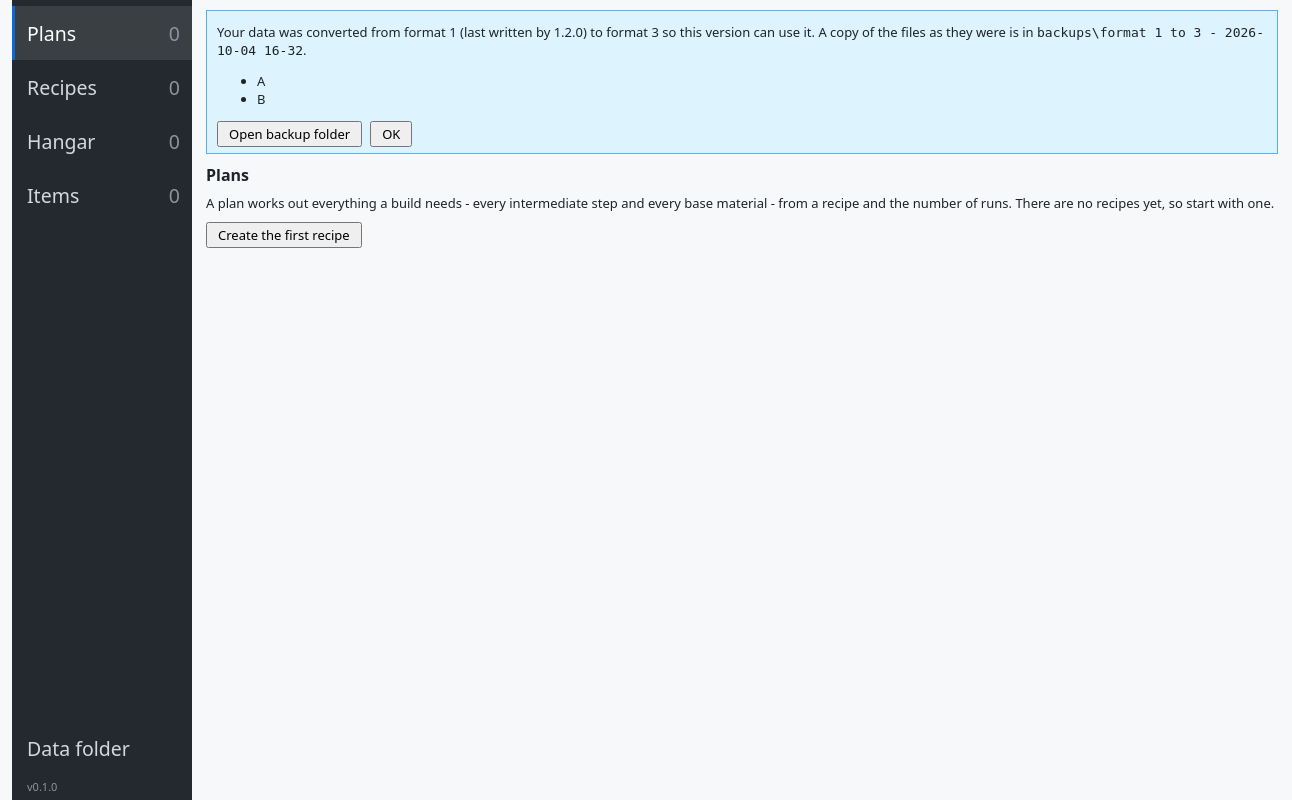
Startup › shows the one-off conversion message, which can open the backup and be dismissed
Expected: the text "Your data was converted from format 1 (last written by 1.2.0) to format 3" is shown, [217,23,1267,59]
Expected: the text "backups\\format 1 to 3 - 2026-10-04 16-32" is shown, [217,25,1264,58]
Click the button "Open backup folder" at (290, 134), box [217,121,362,147]
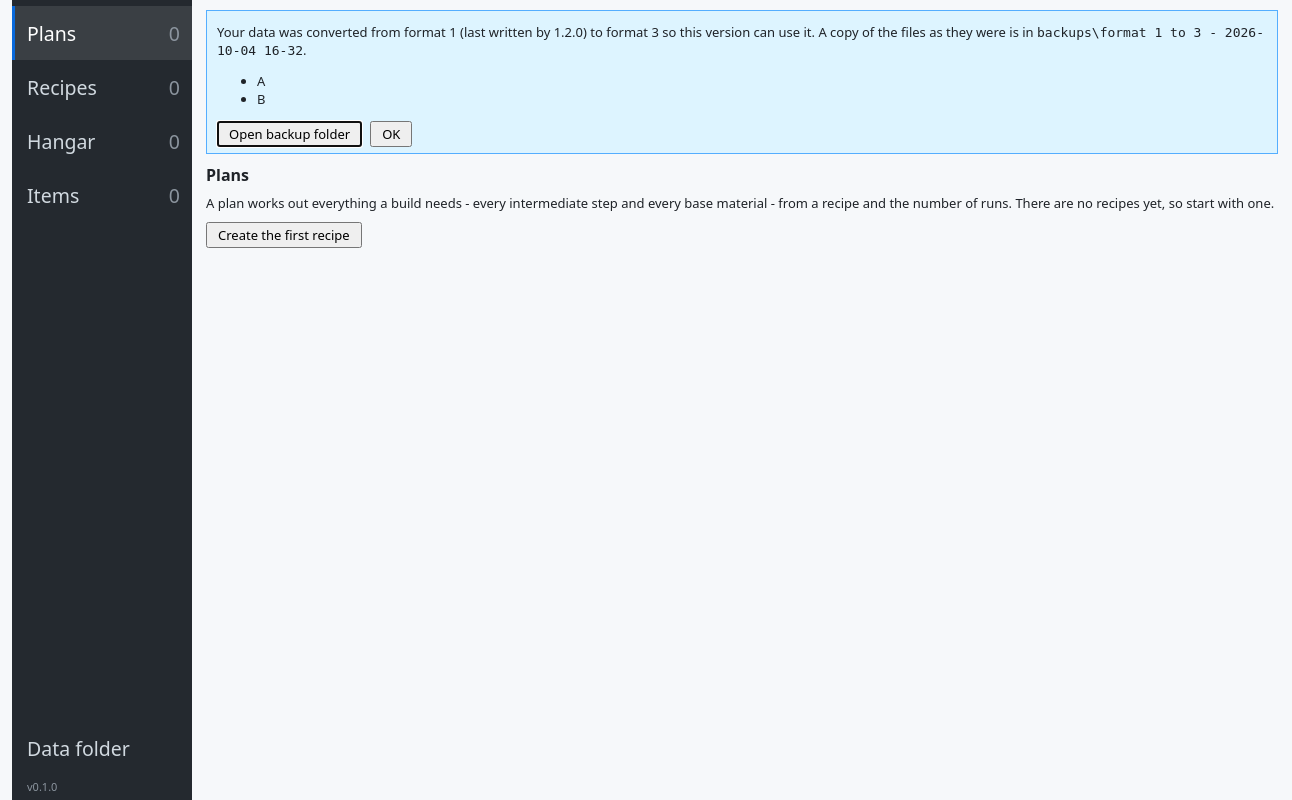
Click the button "OK" at (391, 134), box [370,121,412,147]
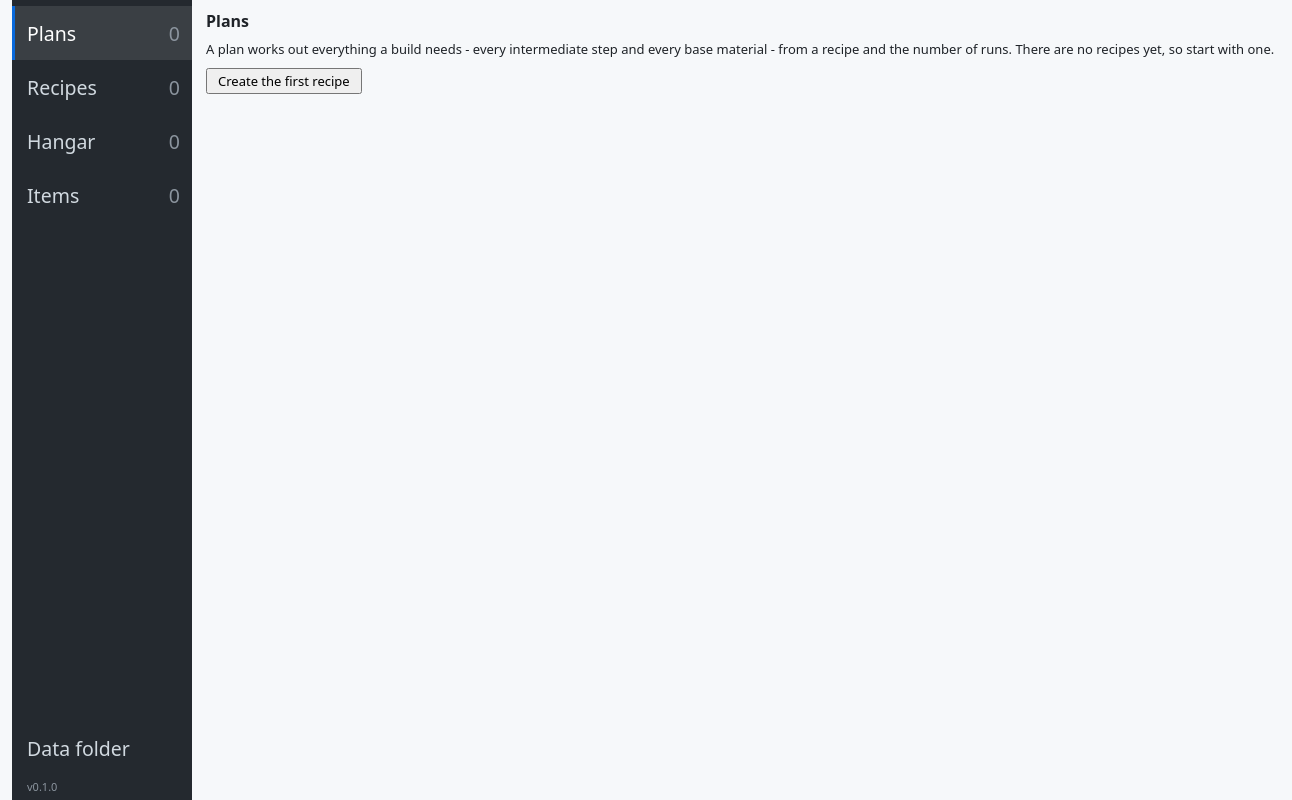
Expected: the text "Your data was converted" is gone
